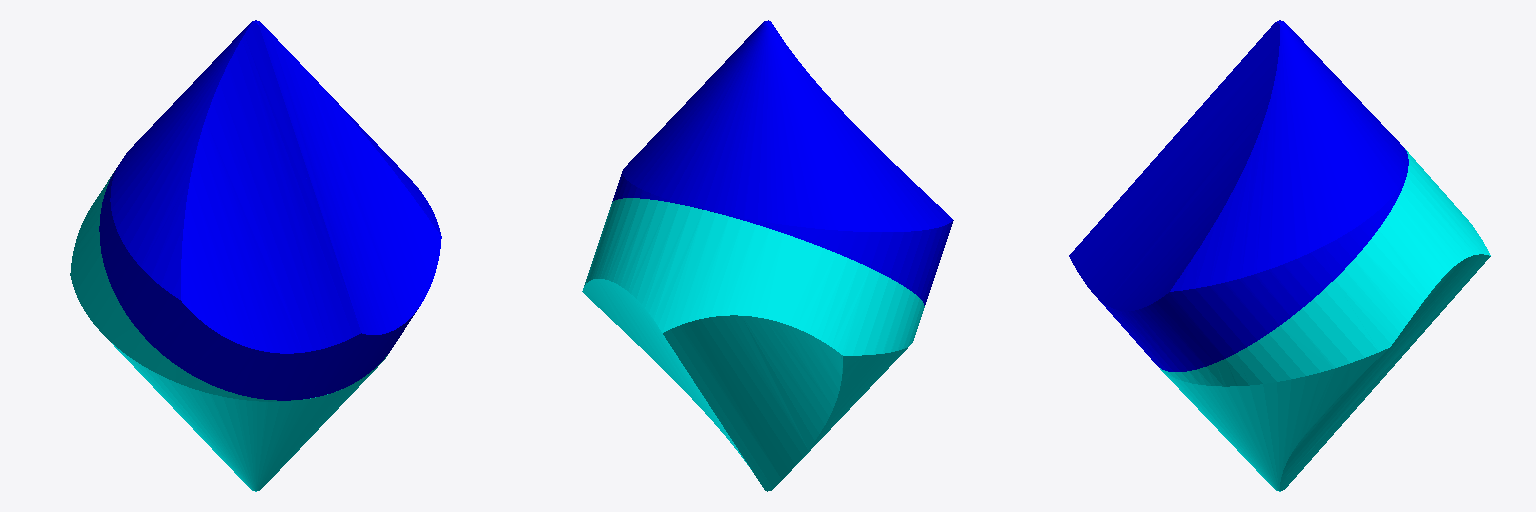
robot.urdf — balo:
<?xml version="1.0" ?>
<robot name="balo">
  <link name="bottomshell_1">
    <visual name="bottomshell_1_visual">
      <origin xyz="0 0 0" rpy="0 0 0"/>
      <geometry>
        <mesh filename="meshes/bottomshell_1.stl"/>
      </geometry>
      <material name="bottomshell_1-material">
        <color rgba="0 0 1 1"/>
      </material>
    </visual>
    <collision name="bottomshell_1_collision">
      <origin xyz="0 0 0" rpy="0 0 0"/>
      <geometry>
        <mesh filename="meshes/bottomshell_1.stl"/>
      </geometry>
    </collision>
    <inertial>
      <mass value="0.044489363"/>
      <inertia ixx="5.2768136e-05" iyy="6.083524e-05" izz="6.130275e-05" ixy="-5.078488e-10" ixz="-4.6418392e-10" iyz="-1.7256708e-05"/>
      <origin xyz="0 0 0" rpy="0 0 0"/>
    </inertial>
  </link>
  <link name="topshell_1">
    <visual name="topshell_1_visual">
      <origin xyz="0 0 0" rpy="0 0 0"/>
      <geometry>
        <mesh filename="meshes/topshell_1.stl"/>
      </geometry>
      <material name="topshell_1-material">
        <color rgba="0 1 1 1"/>
      </material>
    </visual>
    <collision name="topshell_1_collision">
      <origin xyz="0 0 0" rpy="0 0 0"/>
      <geometry>
        <mesh filename="meshes/topshell_1.stl"/>
      </geometry>
    </collision>
    <inertial>
      <mass value="0.044489489"/>
      <inertia ixx="5.276822e-05" iyy="4.4182551e-05" izz="7.7956283e-05" ixy="-1.4831019e-10" ixz="-3.3978567e-10" iyz="-3.5599247e-06"/>
      <origin xyz="-3.3424056e-07 -0.0017103253 -0.02659475" rpy="0 0 0"/>
    </inertial>
  </link>
  <link name="pendulum_1">
    <visual name="pendulum_1_visual">
      <origin xyz="0 0 0" rpy="0 0 0"/>
      <geometry>
        <mesh filename="meshes/pendulum_1.stl"/>
      </geometry>
      <material name="pendulum_1-material">
        <color rgba="0 0 1 1"/>
      </material>
    </visual>
    <collision name="pendulum_1_collision">
      <origin xyz="0 0 0" rpy="0 0 0"/>
      <geometry>
        <mesh filename="meshes/pendulum_1.stl"/>
      </geometry>
    </collision>
    <inertial>
      <mass value="0"/>
      <inertia ixx="0" iyy="0" izz="0" ixy="0" ixz="0" iyz="0"/>
      <origin xyz="-1.7363871e-18 -0.024987802 0.031234752" rpy="0 0 0"/>
    </inertial>
  </link>
  <joint name="Fastened_2" type="fixed">
    <origin xyz="-1.9306432e-07 0.01527796 -0.021835193" rpy="0.67474094 0 0"/>
    <parent link="bottomshell_1"/>
    <child link="topshell_1"/>
  </joint>
  <joint name="Revolute_1" type="revolute">
    <origin xyz="-1.9306432e-07 -0.02472204 -0.021835193" rpy="-2.2455373 0 0"/>
    <parent link="bottomshell_1"/>
    <child link="pendulum_1"/>
    <axis xyz="0 0 -1"/>
    <limit effort="1" velocity="1" lower="-6.2831853" upper="6.2831853"/>
  </joint>
</robot>

--- What the picture shows (computed from the rendered views, not written in the file) ---
Views: 3 orthographic renders of the robot side by side, from view 1: azimuth 30°, elevation 25°; view 2: azimuth 150°, elevation 25°; view 3: azimuth 270°, elevation 25°.
Robot: balo — 3 links, 2 joints (1 revolute, 1 fixed); root link bottomshell_1; default pose: every joint at zero.
Links seen in each view (by area): view 1: bottomshell_1, topshell_1; view 2: topshell_1, bottomshell_1; view 3: bottomshell_1, topshell_1.
Link boxes in pixels (bbox=[...]): bottomshell_1: bbox=[99, 20, 441, 400]; topshell_1: bbox=[70, 171, 387, 491]; topshell_1: bbox=[582, 198, 924, 491]; bottomshell_1: bbox=[612, 20, 953, 305]; bottomshell_1: bbox=[1069, 20, 1408, 371]; topshell_1: bbox=[1160, 149, 1490, 491].
Bounding box of the posed robot: 0.1 × 0.1281 × 0.1571 m (x, y, z).
Meshes: 3 distinct files referenced, 3 mesh visuals loaded (3 binary STL).
